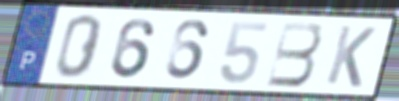0: (53, 12, 105, 81)
5: (217, 19, 270, 85)
6: (165, 18, 212, 83), (110, 17, 156, 80)
B: (264, 20, 324, 88)
K: (323, 23, 379, 90)
